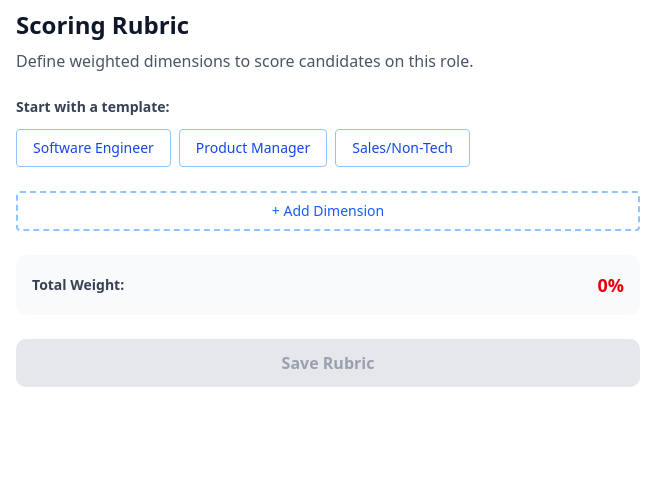
Test: RubricBuilder › allows adding and deleting dimensions
This screenshot has width=657, height=492.
Click the button "+ Add Dimension" at (328, 211), box [16,191,640,231]
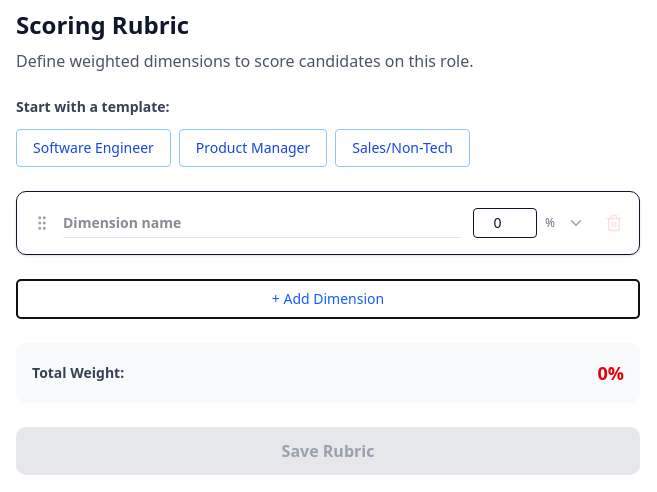
Check: the field with placeholder "Dimension name" is shown, box [63,208,461,238]
